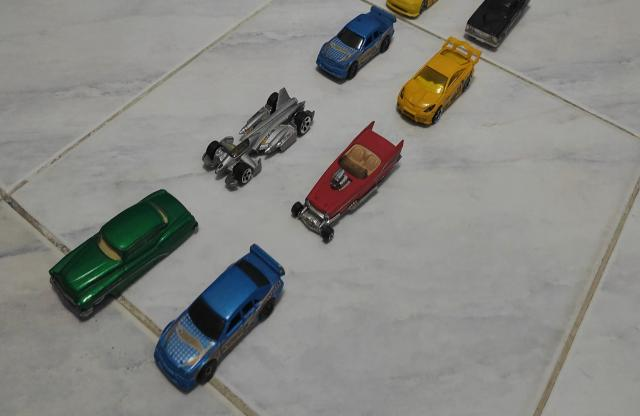01_FORD: (464, 0, 532, 49)
02_OZSOME: (384, 0, 441, 20)
03_V8: (290, 122, 406, 247)
04_MERZEDES: (153, 245, 287, 396), (314, 6, 397, 86)
05_DC121: (201, 89, 316, 193)
06_MASERATI: (48, 190, 200, 324)
07_RHLTURBO: (395, 37, 482, 129)
